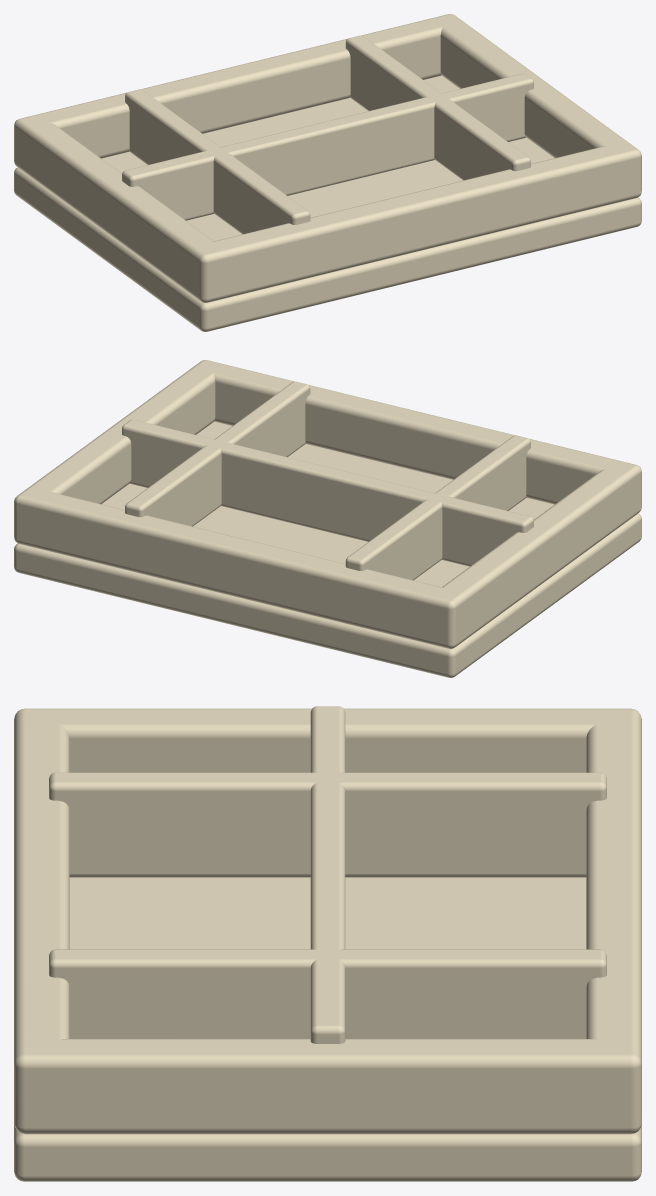
File: candlemaking-and-soap-workshop-gift-box-insert-c03c7586__30689.glb
3 views of the same model, one above another, from view 1: azimuth 30°, elevation 25°; view 2: azimuth 150°, elevation 25°; view 3: azimuth 270°, elevation 25° (orthographic). The views are drawn at different scales.
Parts seen in each view (by area): view 1: gift-box-insert; view 2: gift-box-insert; view 3: gift-box-insert.
Part boxes in pixels (left/top/right/bottom): gift-box-insert: left=14, top=14, right=641, bottom=331; gift-box-insert: left=14, top=360, right=641, bottom=677; gift-box-insert: left=14, top=706, right=641, bottom=1181.
Size of the model in its own units: 0.24 by 0.045 by 0.18.
